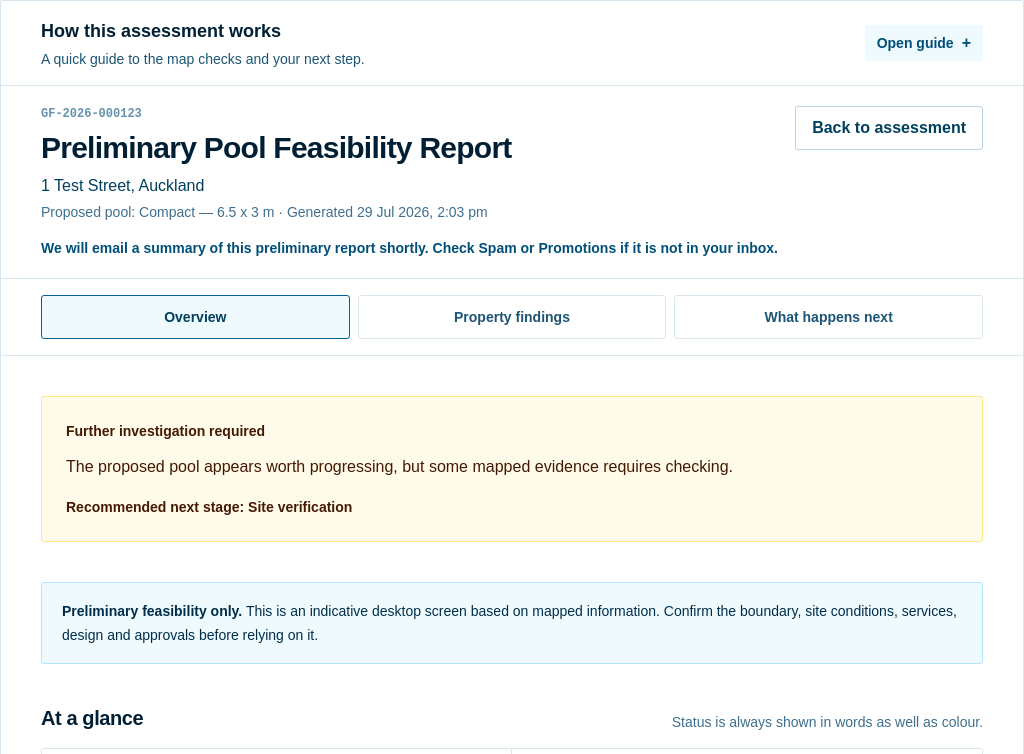
Test: saved report views › exposes exactly three associated tabs with one selected panel
Expected: the element named "Overall assessment" is shown, [41, 396, 983, 542]
Click the tab "Property findings" at point(512, 317), box [358, 295, 666, 339]
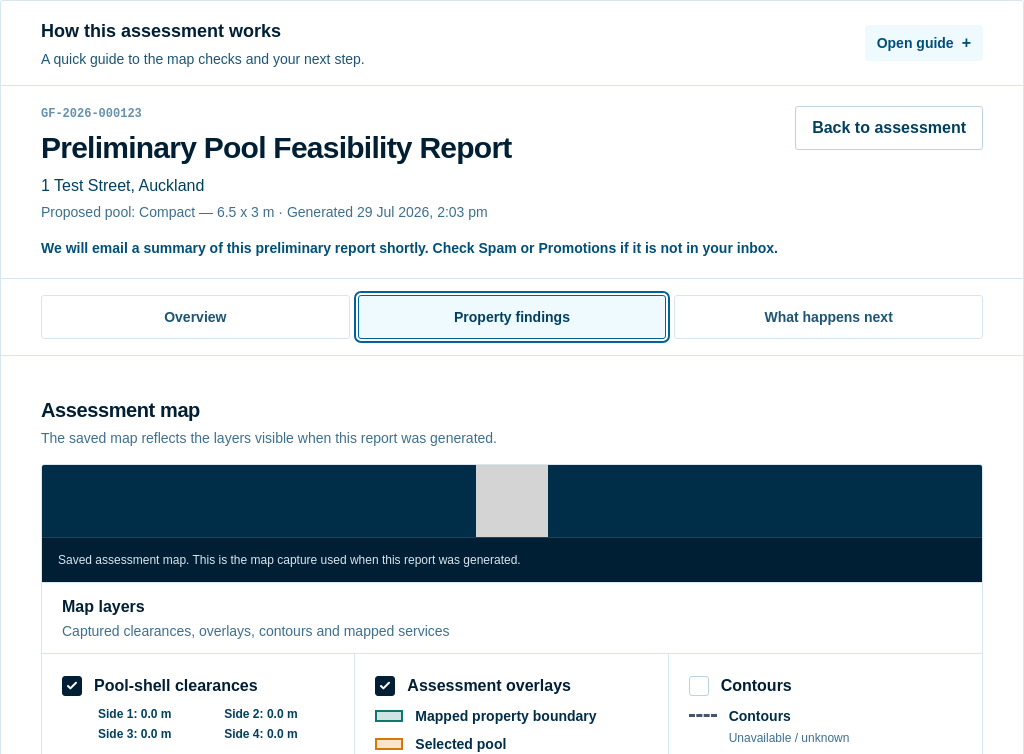
Expected: the heading "Assessment map" is shown, [41, 399, 200, 421]
